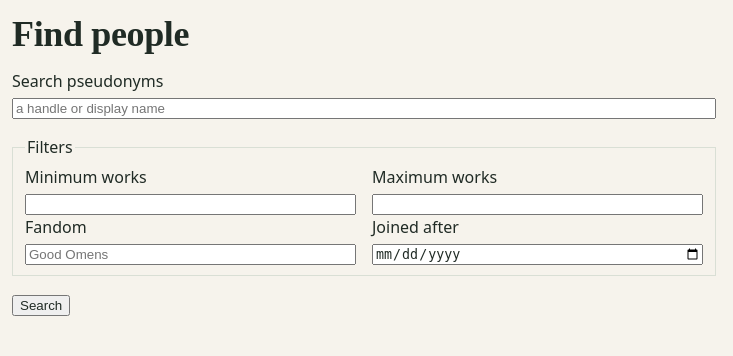
Test: UserSearch › says plainly when a search found nobody
Type "nobody" into the search field labelled "Search pseudonyms" at (364, 108), box [12,98,716,119]
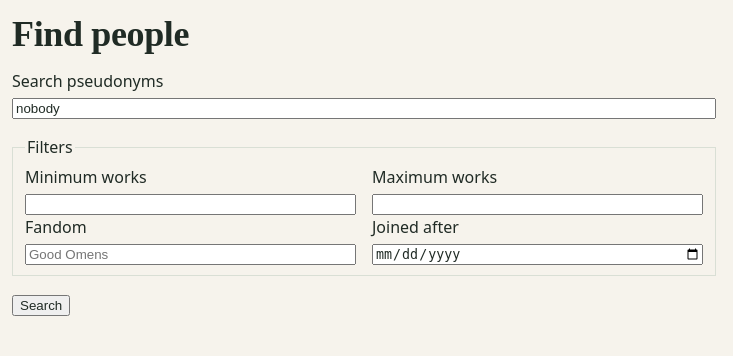
Click the button "Search" at (41, 306), box [12,295,70,316]
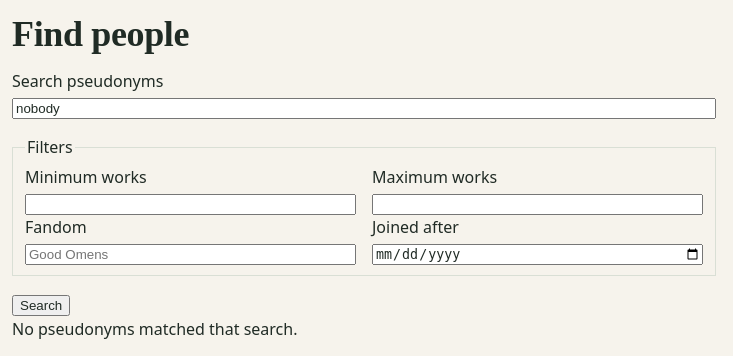
Check: the text "No pseudonyms matched that search." is shown, box [12,318,298,340]
